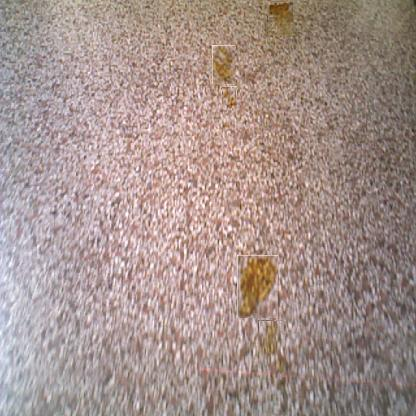liquid: (237, 255, 278, 318), (258, 320, 286, 372), (212, 45, 235, 84), (267, 1, 293, 35), (221, 86, 237, 107)
